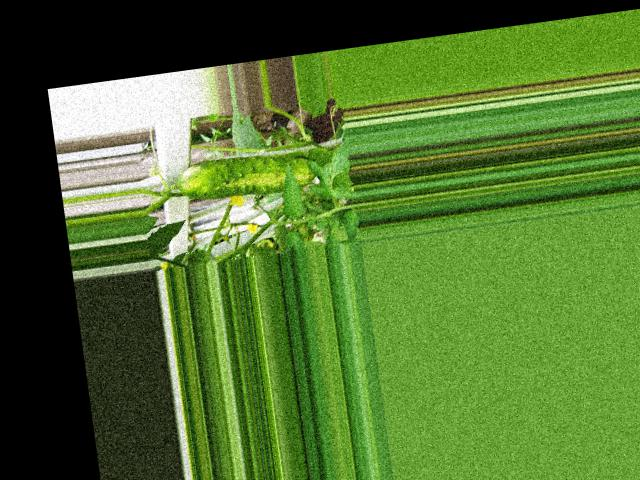cucumber: (174, 146, 315, 203)
